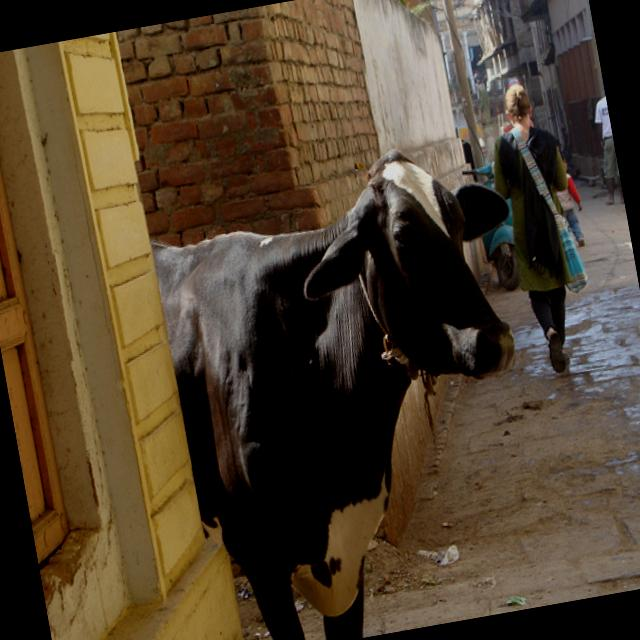Vehicle: (478, 196, 526, 292)
